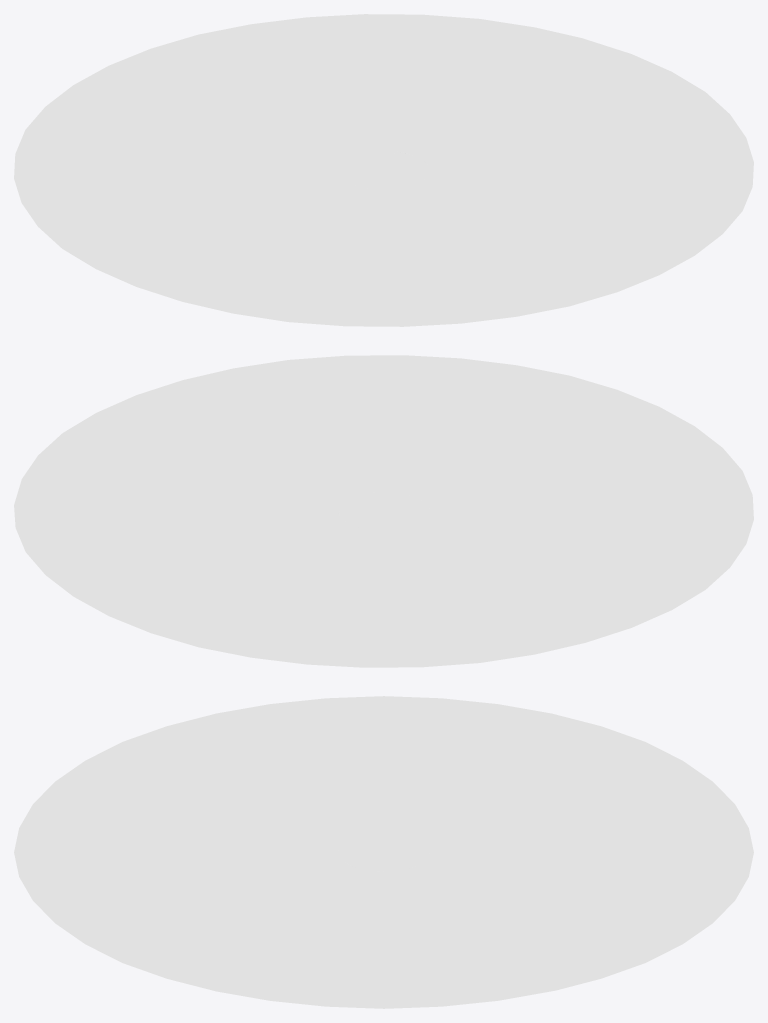
The model's file is BossPlate.fbx.
3 views of the same model, one above another, from view 1: azimuth 30°, elevation 25°; view 2: azimuth 150°, elevation 25°; view 3: azimuth 270°, elevation 25° (orthographic).
Parts seen in each view (by area): view 1: circle.mo; view 2: circle.mo; view 3: circle.mo.
Boxes of the visible parts, left/top/right/bottom form: circle.mo: left=14, top=14, right=753, bottom=326; circle.mo: left=14, top=355, right=753, bottom=667; circle.mo: left=14, top=696, right=753, bottom=1008.
Bounding box in the file's own units: 20 × 6.52e-06 × 20.
